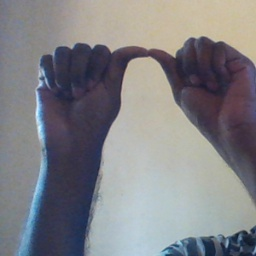A: (37, 34, 253, 168)
